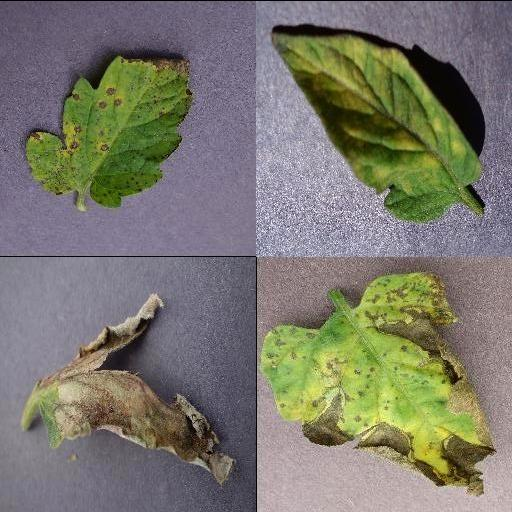Late Blight: (36, 291, 240, 487)
Leaf Mold: (270, 30, 486, 219)
Septoria: (257, 270, 493, 494), (27, 55, 195, 205)
